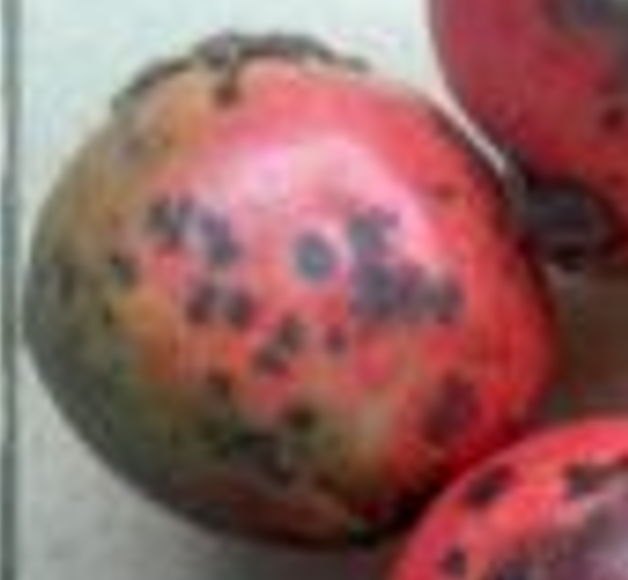pomegranate_C: (23, 31, 563, 549)
